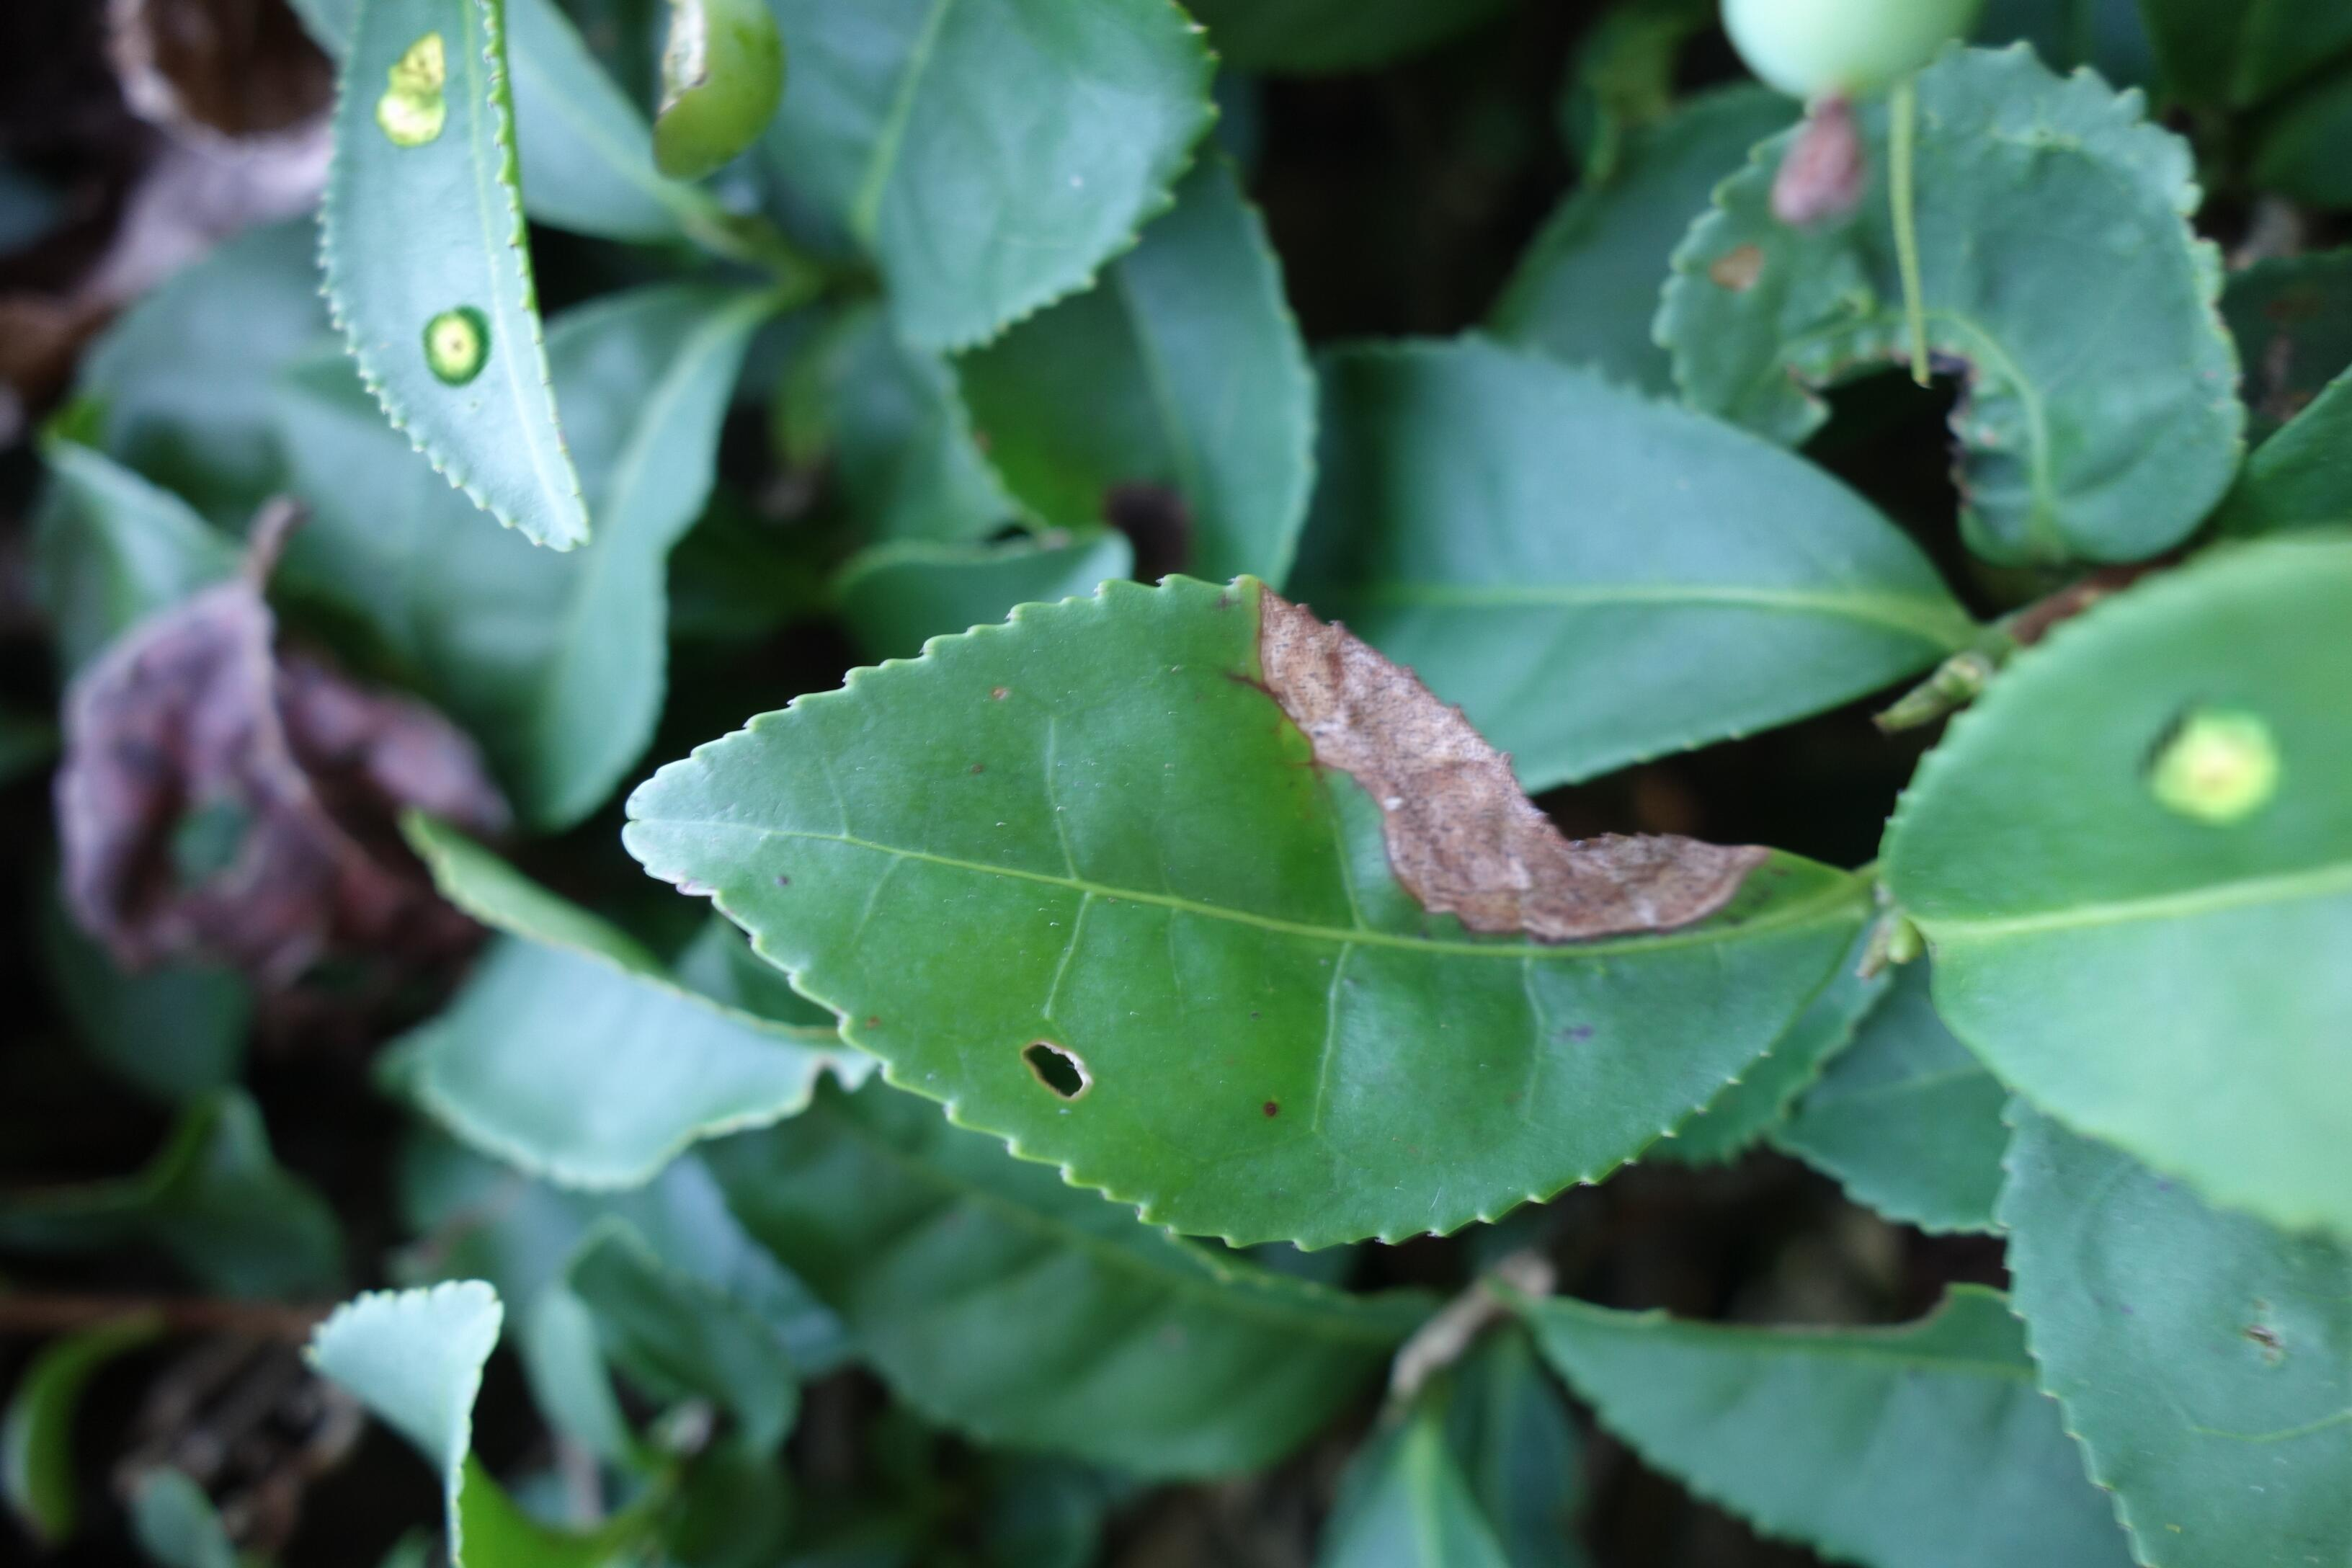chabing_high: (313, 5, 588, 548)
chabing_low: (1890, 539, 2348, 1234)
chihuo_high: (1657, 31, 2254, 567)
tanju_high: (621, 576, 1871, 1258)
